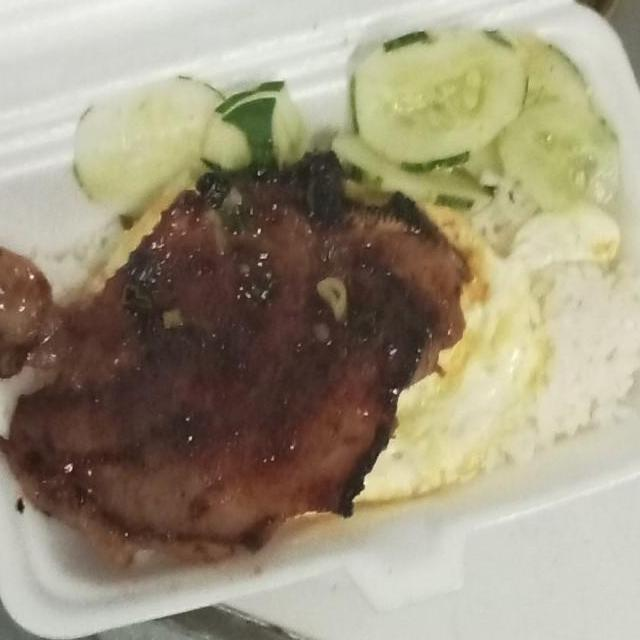com: (466, 168, 640, 462)
suon: (0, 142, 479, 571)
trung: (324, 196, 547, 509)
